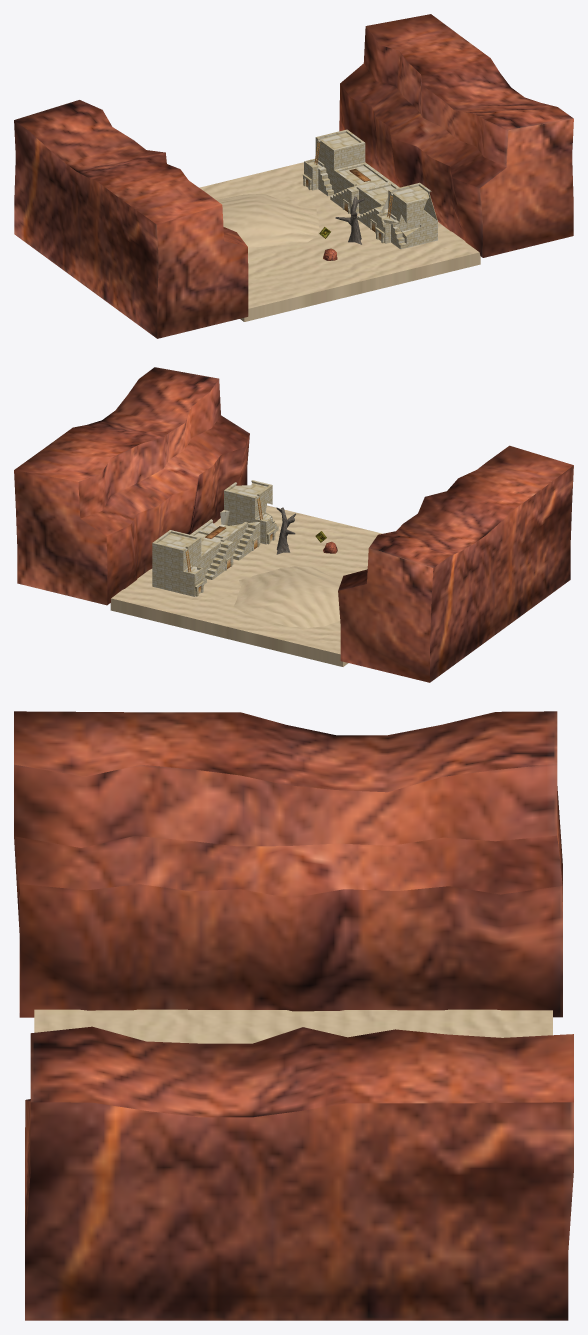
File: TerrainTest.fbx
3 views of the same model, one above another, from view 1: azimuth 30°, elevation 25°; view 2: azimuth 150°, elevation 25°; view 3: azimuth 270°, elevation 25° (orthographic). The views are drawn at different scales.
Parts seen in each view (by area): view 1: CliffR, CliffL, ChunkMesh, SandHill, BuildingLRuin, BuildingL, BuildingS, BuildingSRuin, Tree; view 2: CliffL, CliffR, ChunkMesh, SandHill, BuildingL, BuildingLRuin, BuildingSRuin, BuildingS, Tree; view 3: CliffL, CliffR, ChunkMesh.
Boxes of the visible parts, x1,y1,x2,y2 form: CliffR: (339,14,573,257); CliffL: (14,100,248,338); ChunkMesh: (199,162,480,321); SandHill: (216,194,319,247); BuildingLRuin: (375,182,437,249); BuildingL: (303,129,365,195); BuildingS: (330,162,391,214); BuildingSRuin: (357,182,399,233); Tree: (335,196,364,244); CliffL: (338,445,573,682); CliffR: (14,367,249,605); ChunkMesh: (110,505,382,666); SandHill: (233,566,341,627); BuildingL: (152,530,206,596); BuildingLRuin: (224,480,278,544); BuildingSRuin: (197,510,260,560); BuildingS: (190,529,233,579); Tree: (276,507,295,554); CliffL: (14,711,562,1017); CliffR: (25,1026,573,1320); ChunkMesh: (34,1009,552,1043).
Bounding box in the file's own units: 10711 × 3118 × 6481.
